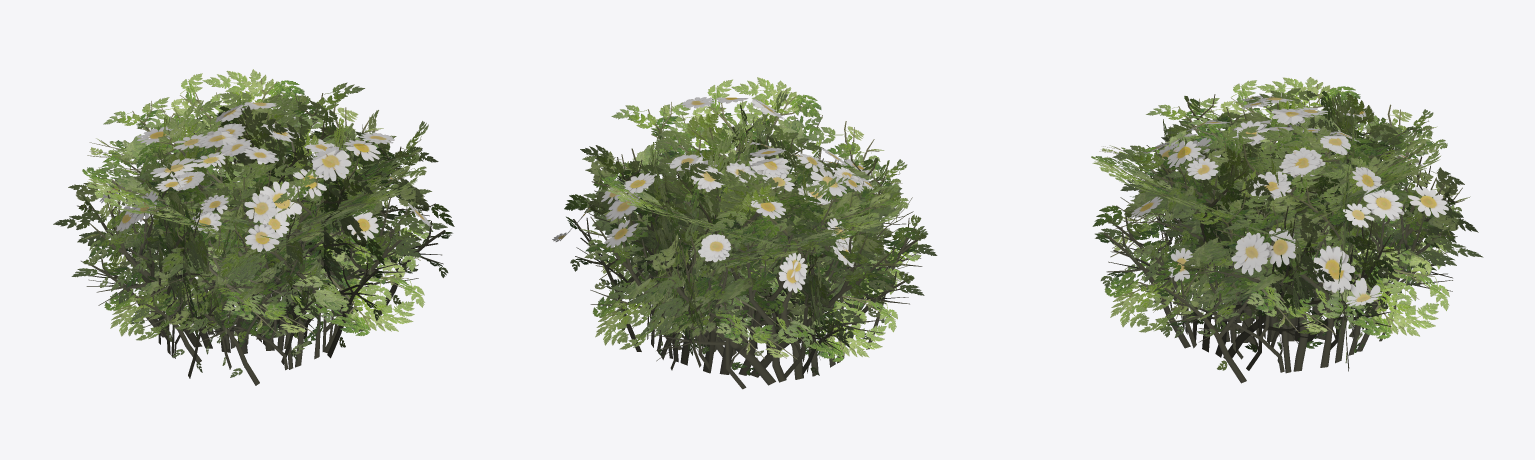
Rendered from Flowers-04.gltf.
The picture shows the model from 3 angles, left to right: view 1: azimuth 30°, elevation 25°; view 2: azimuth 150°, elevation 25°; view 3: azimuth 270°, elevation 25°; orthographic projection. The views are drawn at different scales.
Parts seen in each view (by area): view 1: Flowers-04; view 2: Flowers-04; view 3: Flowers-04.
Part boxes in pixels (x1=…): Flowers-04: x1=53, y1=69, x2=454, y2=385; Flowers-04: x1=552, y1=77, x2=937, y2=389; Flowers-04: x1=1091, y1=77, x2=1483, y2=383.
Size of the model in its own units: 1.41 by 0.943 by 1.47.
Materials: 4 (4 with a texture image).
